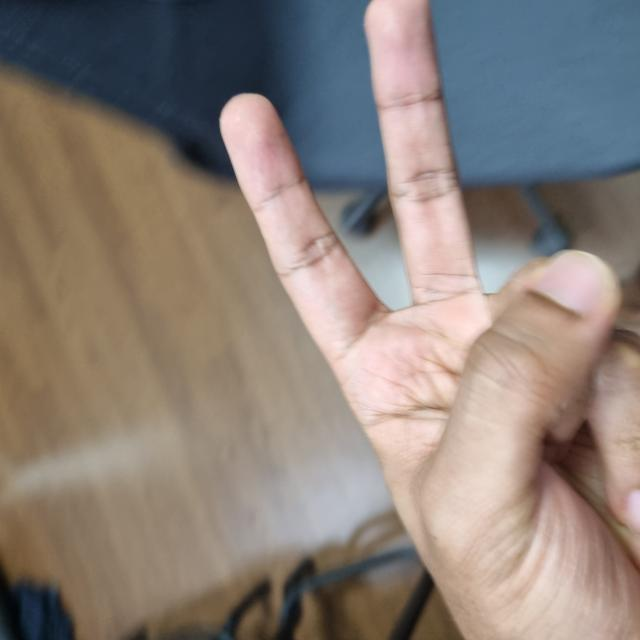Scissors: (0, 223, 639, 639)
